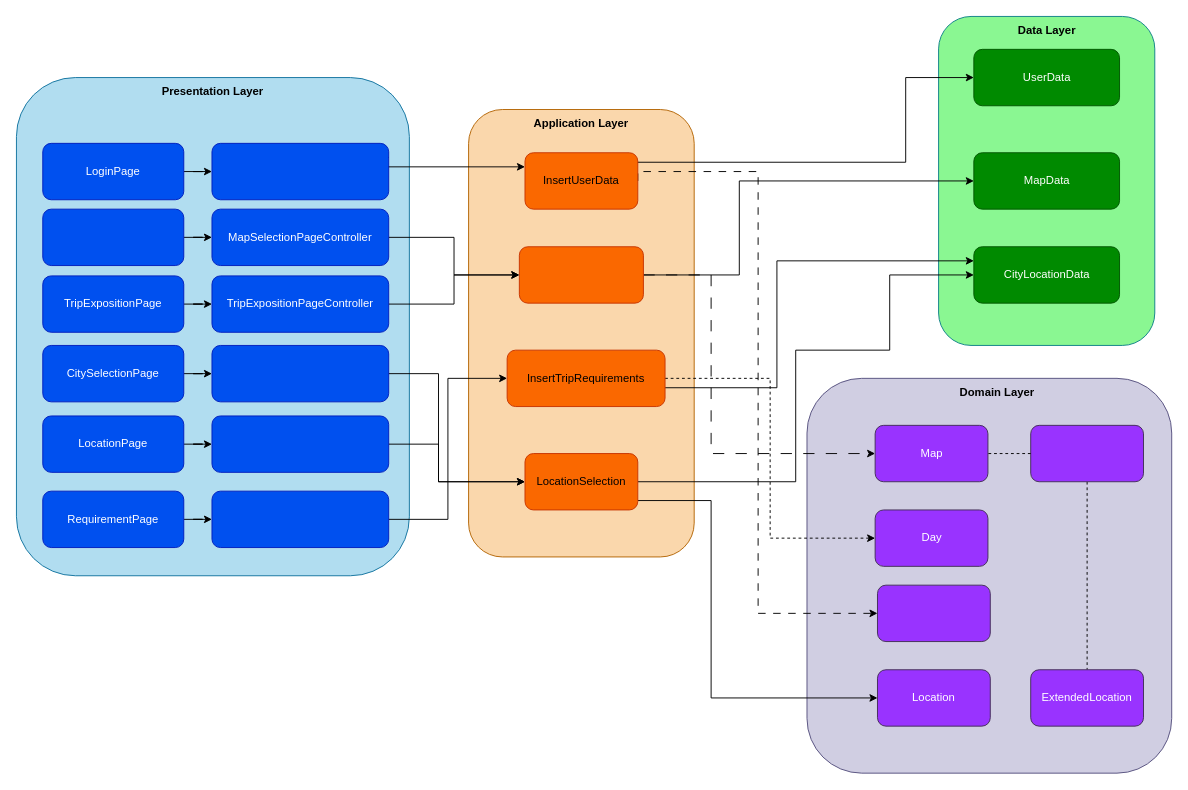
This 1188x790 diagram has some shape labels left out. The shapes that lost their labels are listed below. From the top down, each one's centre as x and y in pixels, then its label:
At pixel 300 171: "LoginController".
At pixel 113 237: "MapSelectionPage".
At pixel 580 274: "MapSelection/Display".
At pixel 300 373: "CitySelectionPageController".
At pixel 300 443: "LocationPageController".
At pixel 1087 453: "Itinerary".
At pixel 300 519: "RequirementPageController".
At pixel 933 613: "User".
